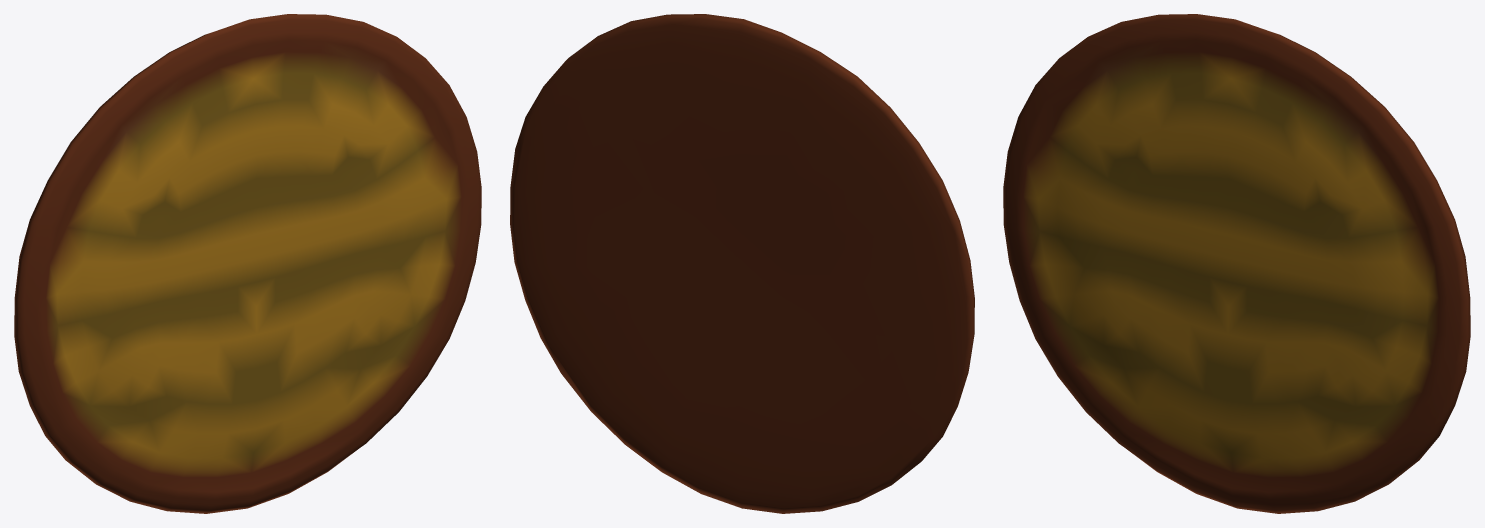
The model's file is Wooden Shield_001.fbx.
The picture shows the model from 3 angles, left to right: view 1: azimuth 30°, elevation 25°; view 2: azimuth 150°, elevation 25°; view 3: azimuth 330°, elevation 25°; orthographic projection.
Parts seen in each view (by area): view 1: Wooden_Shield; view 2: Wooden_Shield; view 3: Wooden_Shield.
Part boxes in pixels (x1,y1,x2,y2): Wooden_Shield: (14, 14, 481, 513); Wooden_Shield: (510, 14, 974, 513); Wooden_Shield: (1003, 14, 1470, 513).
Bounding box in the file's own units: 215 × 216 × 9.95.
